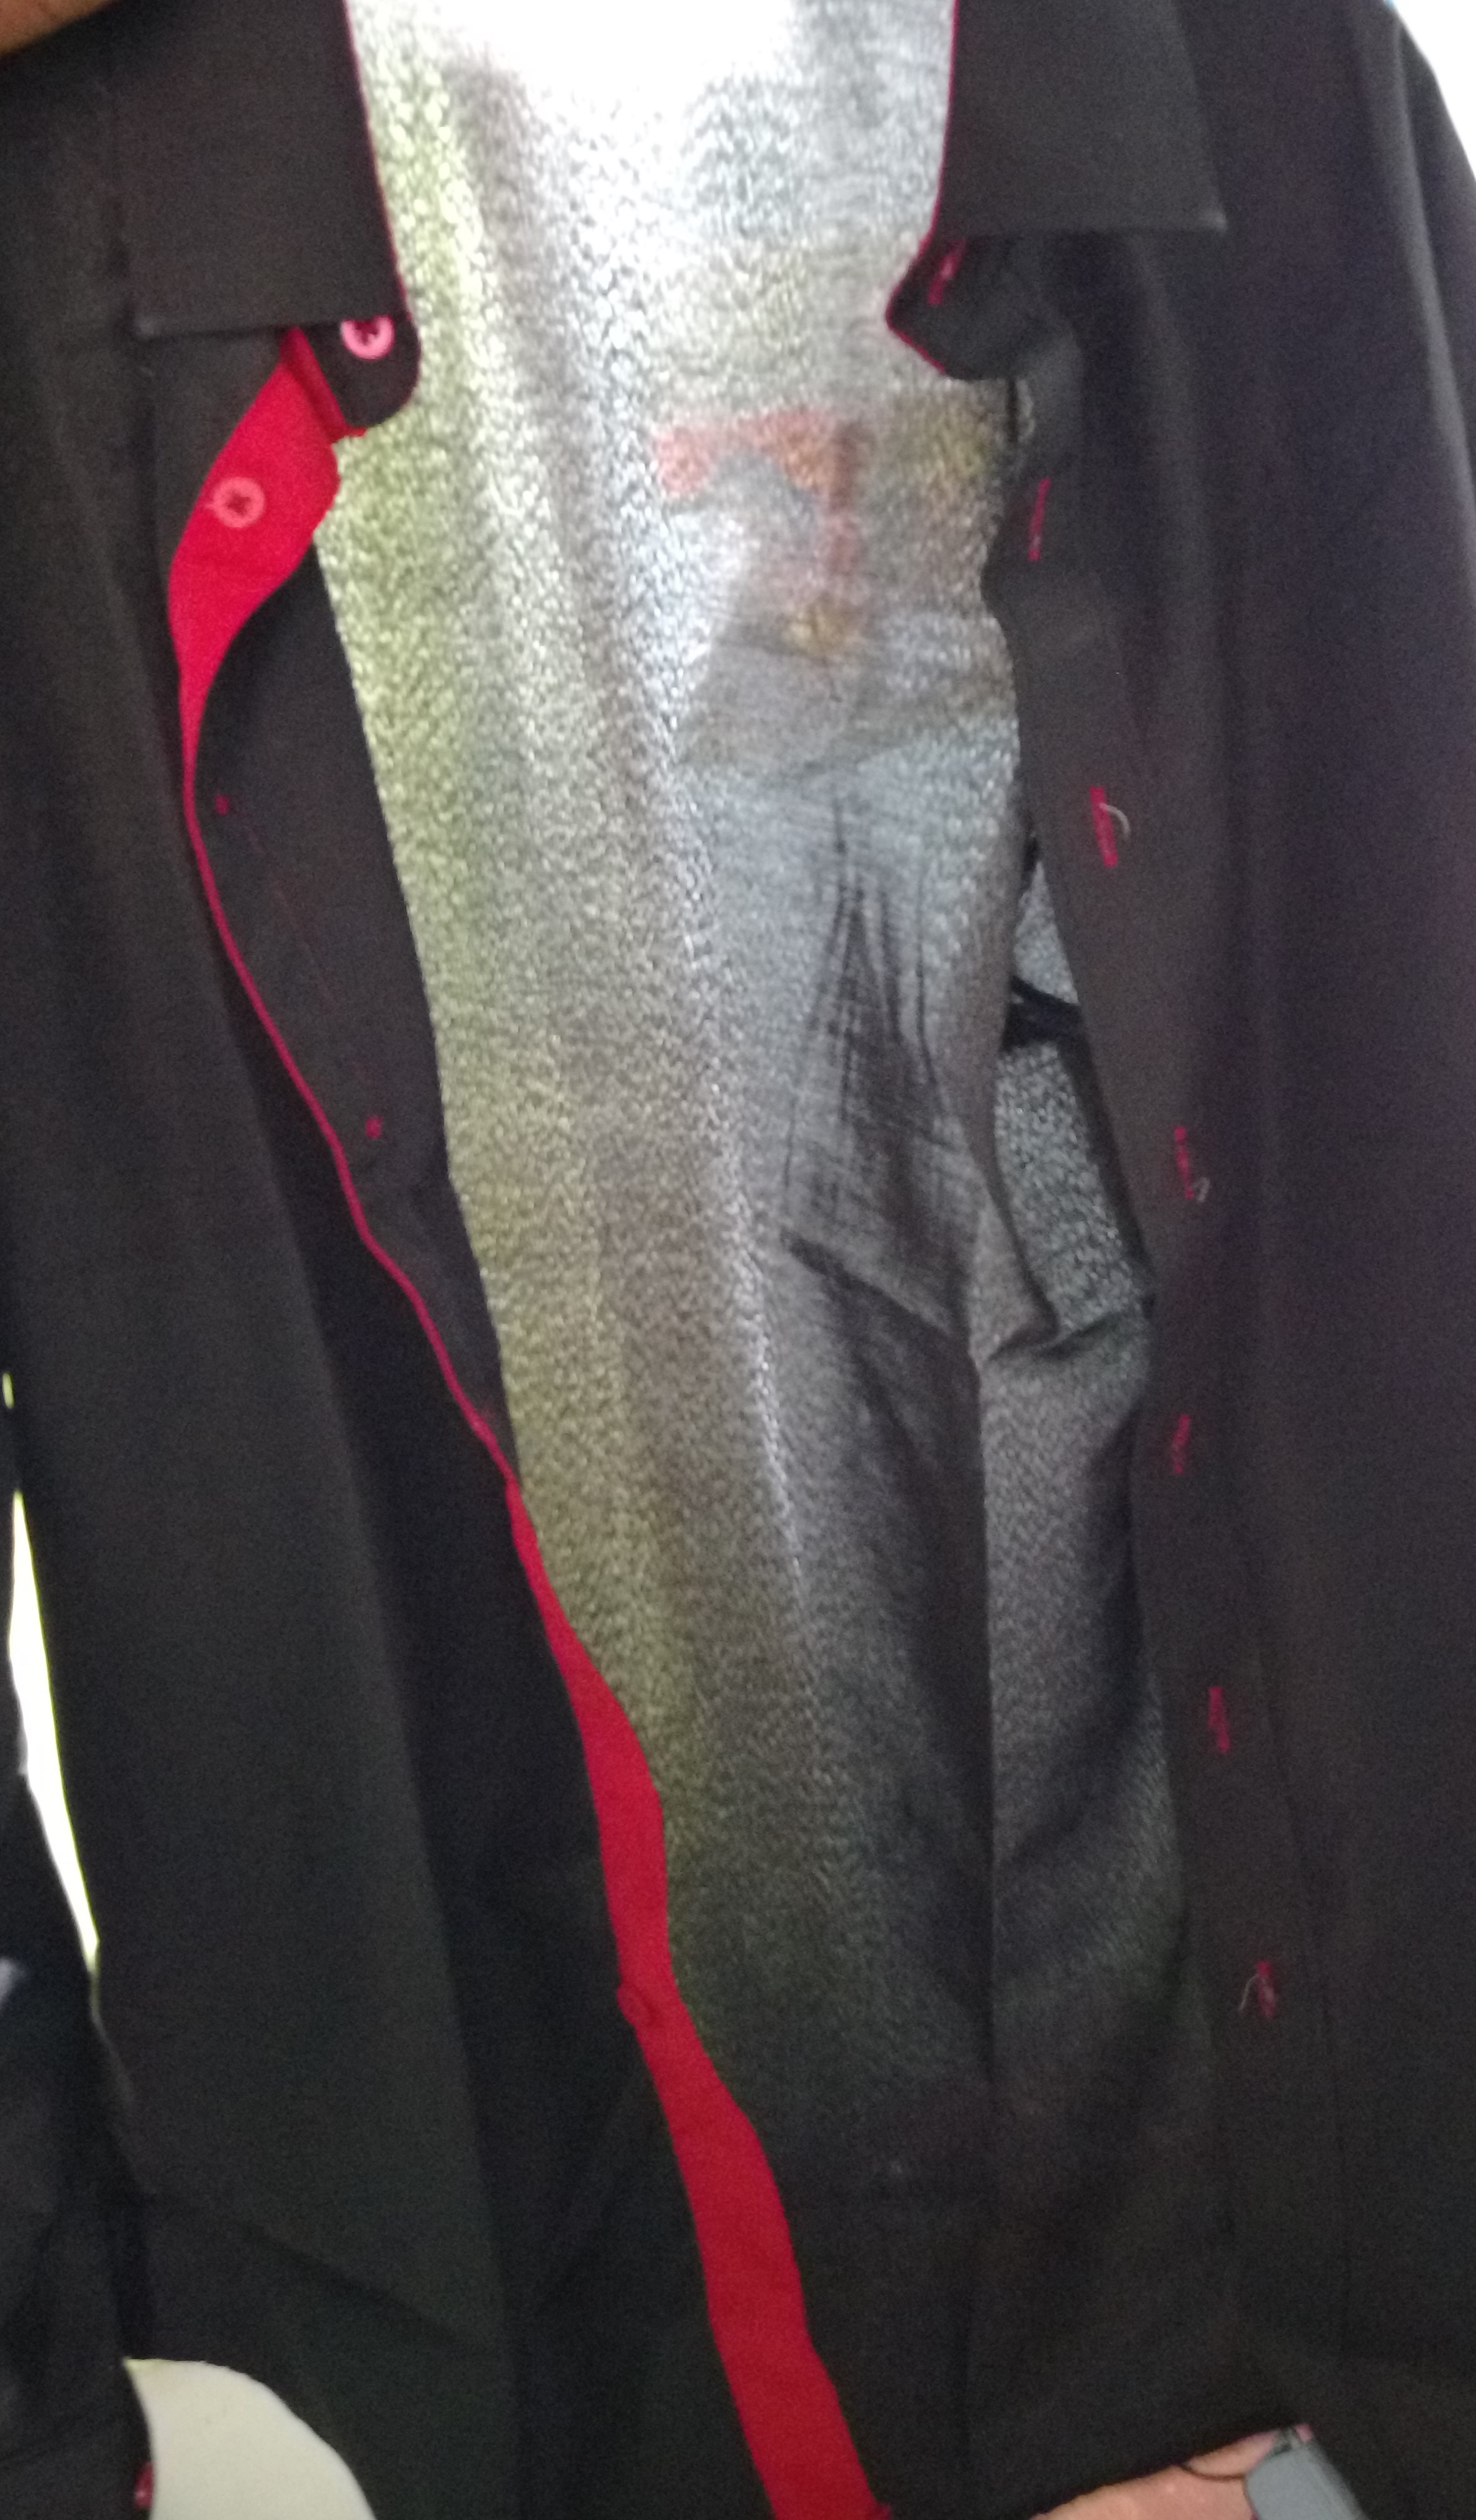shirts: (0, 11, 1465, 2509)
